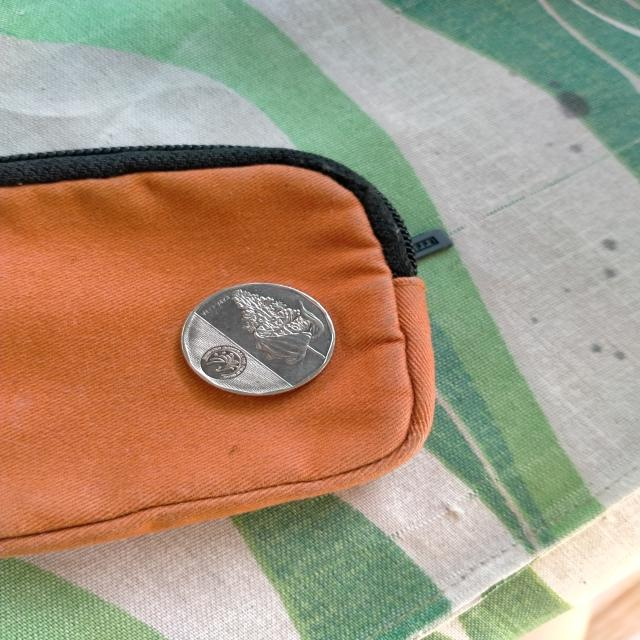10_New_Back: (225, 281, 331, 367)
